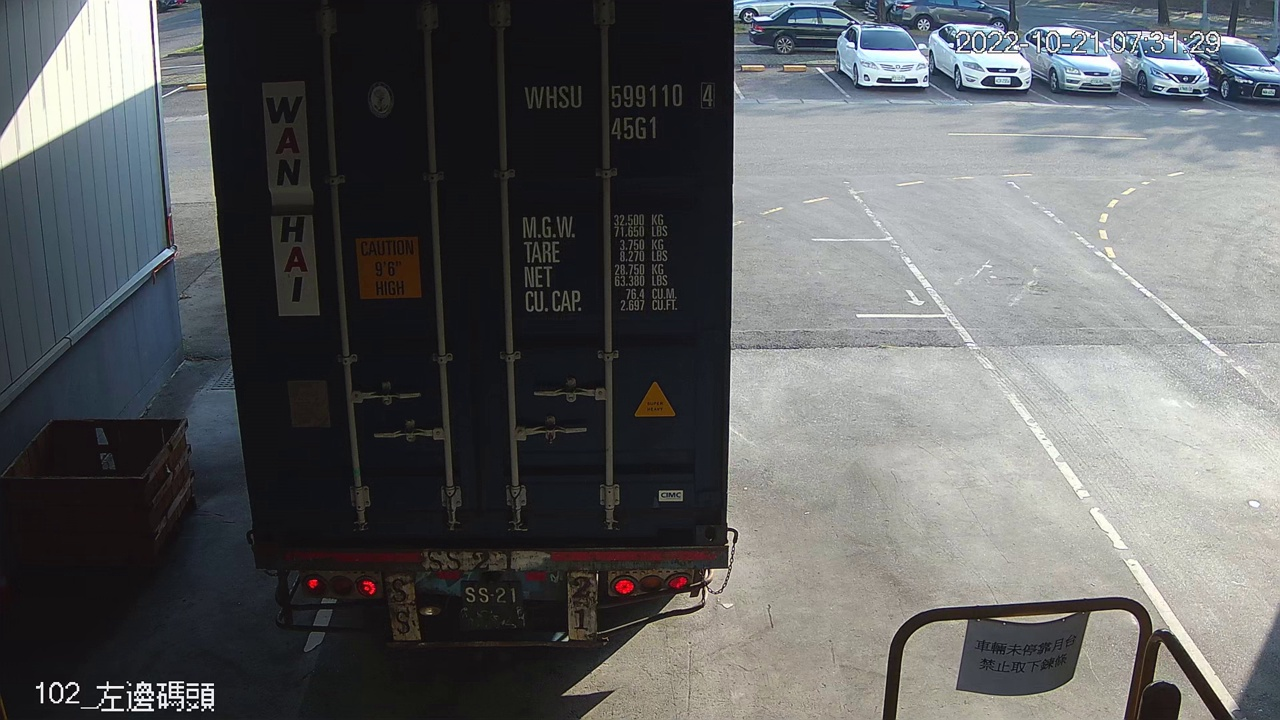container: (518, 75, 722, 146)
